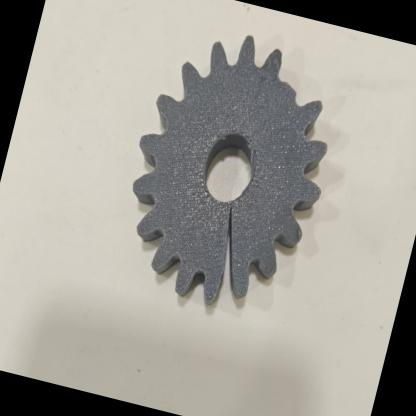defect: (244, 21, 346, 150), (187, 184, 280, 318)
gear: (80, 0, 390, 388)
